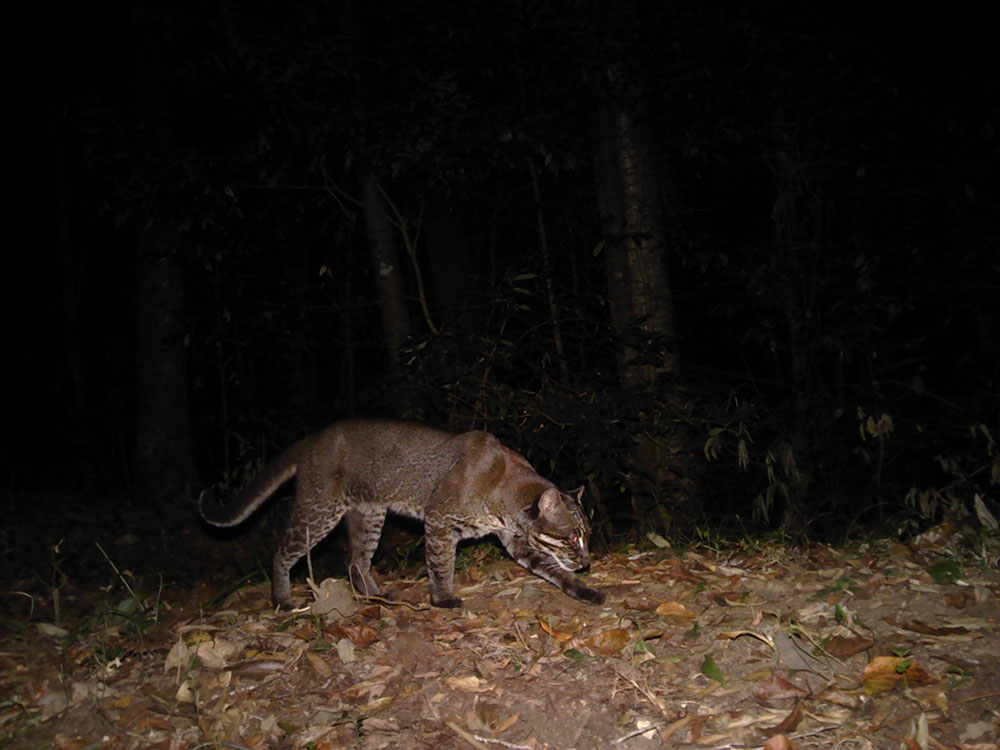cat: (154, 410, 654, 633)
